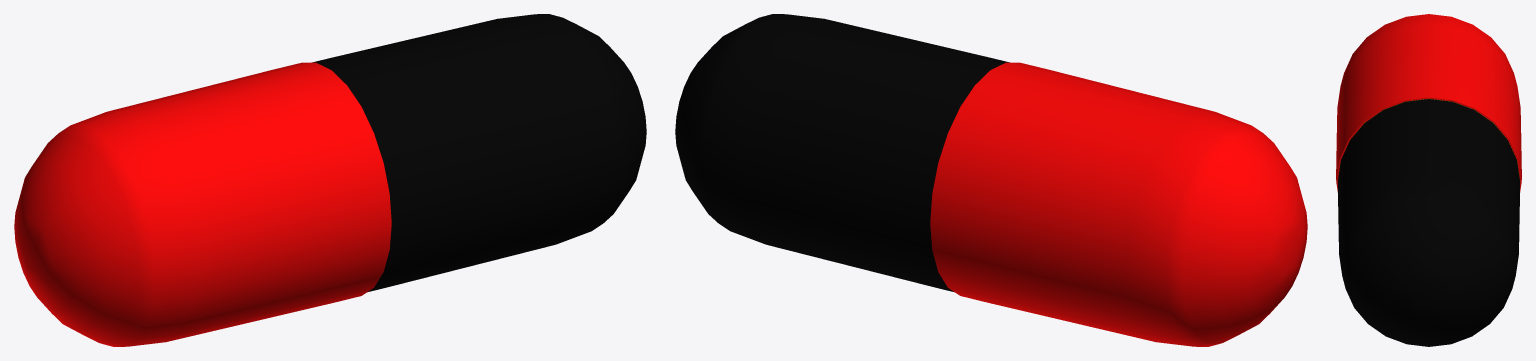
The model's file is Pill.fbx.
The picture shows the model from 3 angles, left to right: view 1: azimuth 30°, elevation 25°; view 2: azimuth 150°, elevation 25°; view 3: azimuth 270°, elevation 25°; orthographic projection. The views are drawn at different scales.
Visible parts, largest first — view 1: pill_C_003_geo; view 2: pill_C_003_geo; view 3: pill_C_003_geo.
Boxes of the visible parts, x1,y1,x2,y2 form: pill_C_003_geo: [14, 14, 646, 346]; pill_C_003_geo: [675, 14, 1307, 346]; pill_C_003_geo: [1336, 14, 1521, 346].
Size of the model in its own units: 0.3562 by 0.1239 by 0.1239.
